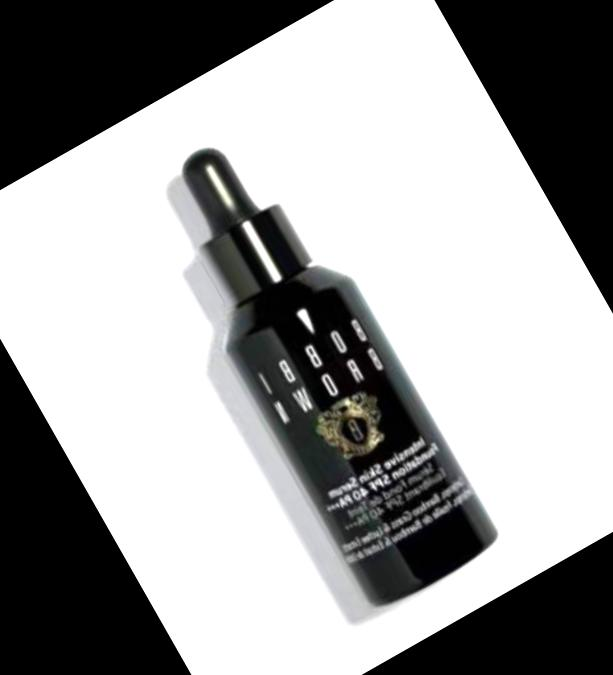cosmetic: (134, 112, 503, 605)
